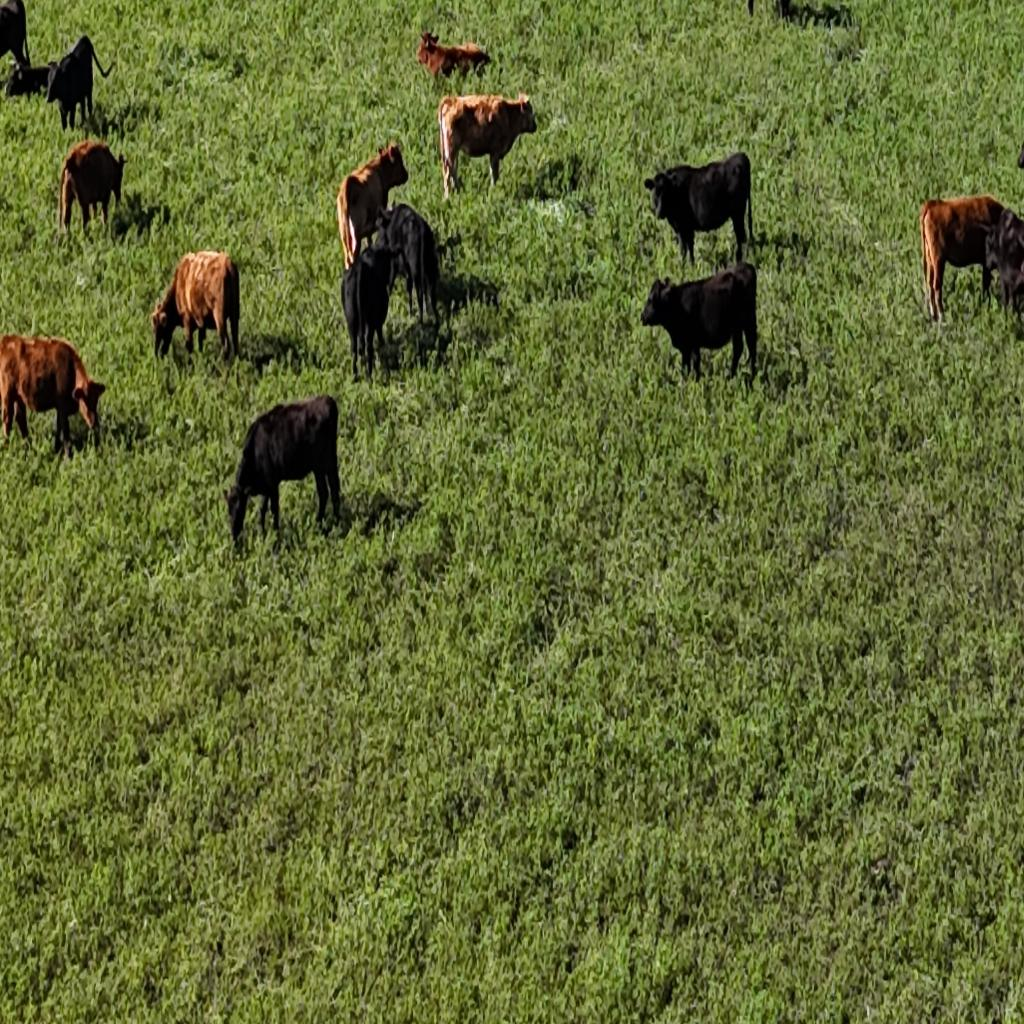cow: (223, 394, 342, 545), (641, 262, 758, 384), (641, 153, 755, 271), (920, 194, 1020, 326), (2, 332, 107, 457), (436, 91, 538, 199), (150, 249, 240, 365), (336, 140, 411, 268), (372, 200, 439, 324), (341, 241, 397, 380), (58, 138, 128, 237), (45, 34, 104, 130), (416, 30, 490, 82), (770, 0, 839, 31), (0, 0, 29, 70), (4, 59, 52, 100), (746, 0, 778, 23), (772, 0, 794, 25)
